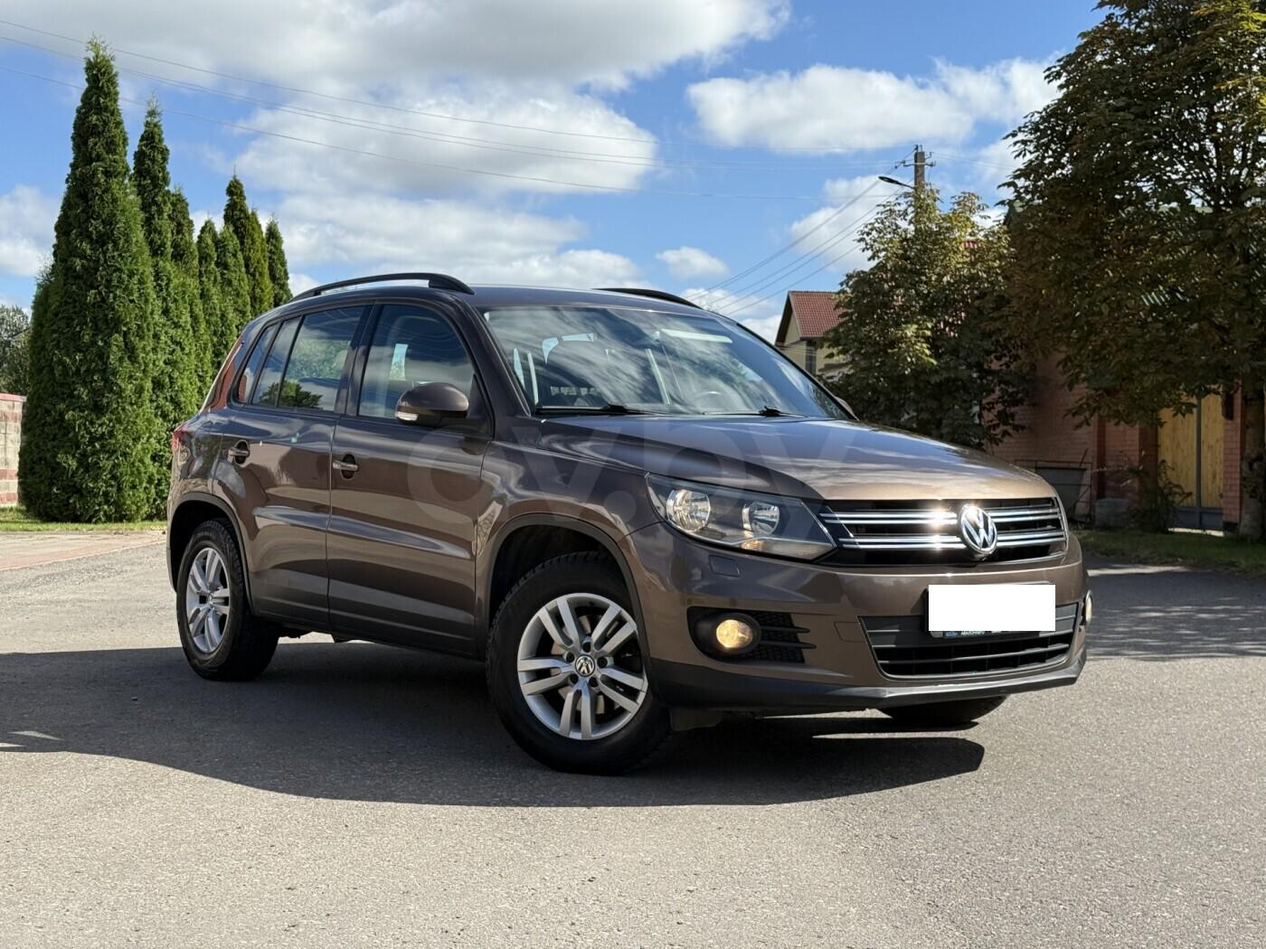Tiguan_2011-2018: (156, 278, 1099, 770)
